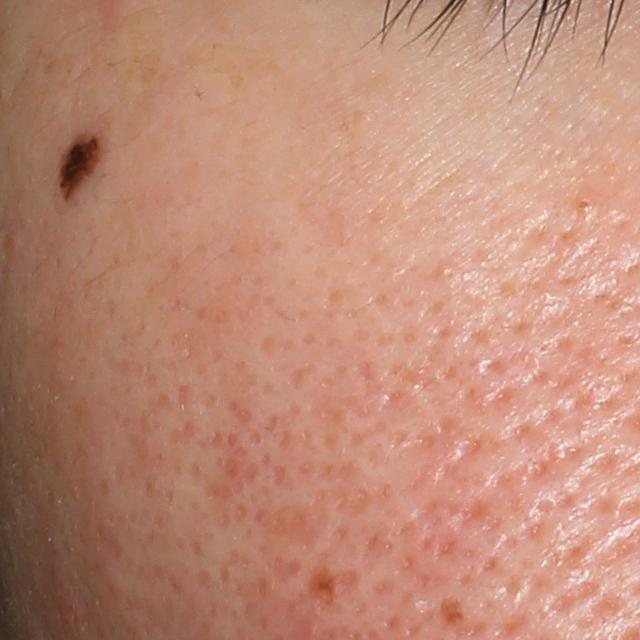atrophic_scar: (270, 504, 333, 551)
comedo: (430, 259, 454, 281), (573, 192, 595, 213)
nevus: (55, 133, 110, 208), (434, 596, 469, 632)
